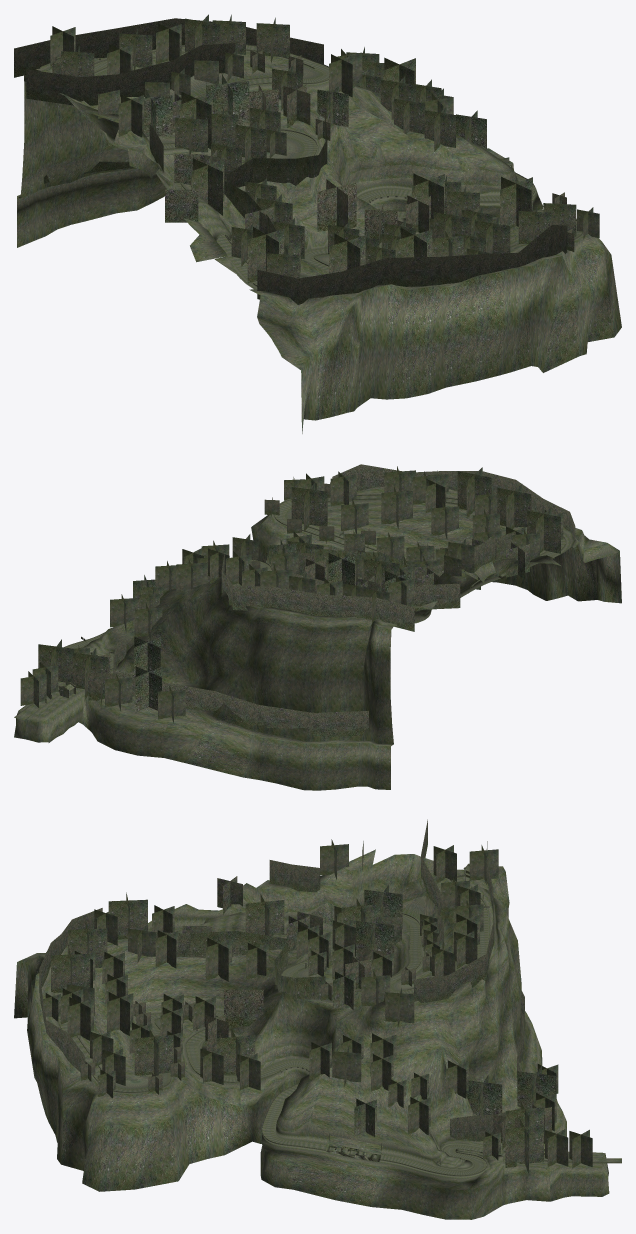
The model's file is fantasy1.glb.
3 views of the same model, one above another, from view 1: azimuth 30°, elevation 25°; view 2: azimuth 150°, elevation 25°; view 3: azimuth 270°, elevation 25° (orthographic). The views are drawn at different scales.
Parts seen in each view (by area): view 1: fantasy1; view 2: fantasy1; view 3: fantasy1.
Boxes of the visible parts, x1,y1,x2,y2 form: fantasy1: (14,14,621,433); fantasy1: (14,464,621,790); fantasy1: (14,819,621,1219).
Size of the model in its own units: 412 by 196 by 530.
Materials: 1 (1 with a texture image).
